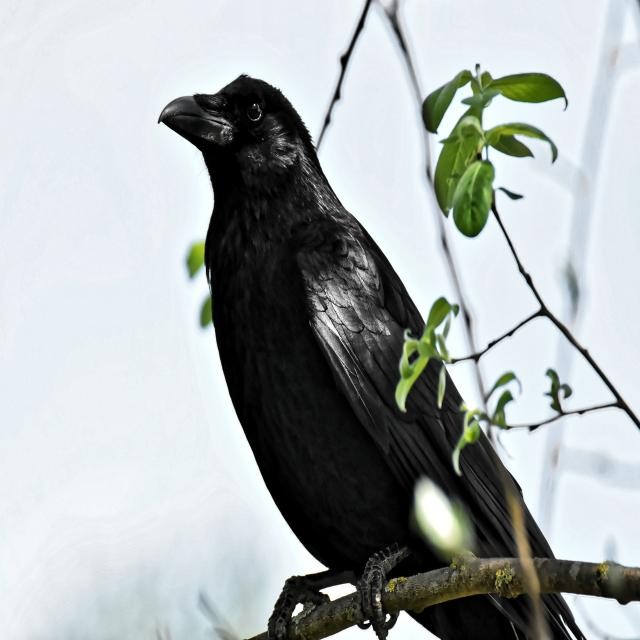crow: (127, 67, 601, 640)
